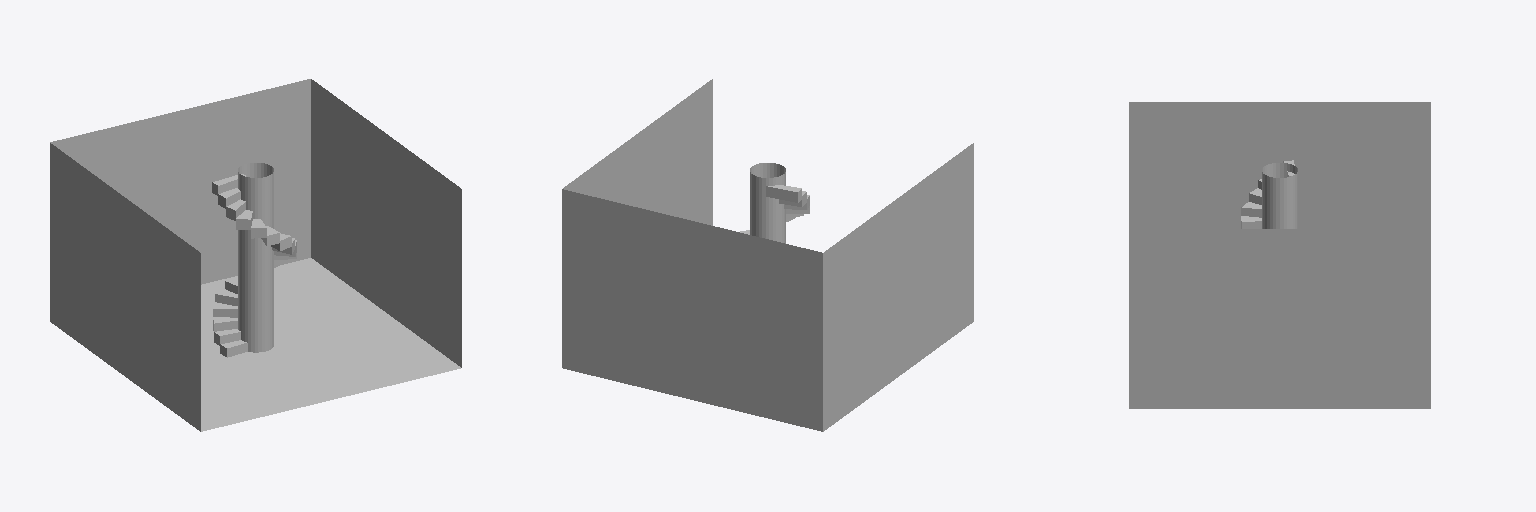
File: pool.obj
3 views of the same model, side by side, from view 1: azimuth 30°, elevation 25°; view 2: azimuth 150°, elevation 25°; view 3: azimuth 270°, elevation 25° (orthographic).
Parts seen in each view (by area): view 1: Plane, Circle, Cube; view 2: Plane, Circle, Cube; view 3: Plane, Circle, Cube.
Boxes of the visible parts, box(x1,y1,x2,y2) form: Plane: box(50, 79, 461, 431); Circle: box(238, 163, 273, 352); Cube: box(212, 174, 296, 357); Plane: box(562, 79, 973, 431); Circle: box(750, 163, 785, 243); Cube: box(740, 185, 809, 234); Plane: box(1129, 102, 1430, 408); Circle: box(1262, 163, 1297, 228); Cube: box(1241, 160, 1294, 228).
Size of the model in its own units: 16.52 by 10.91 by 16.52.